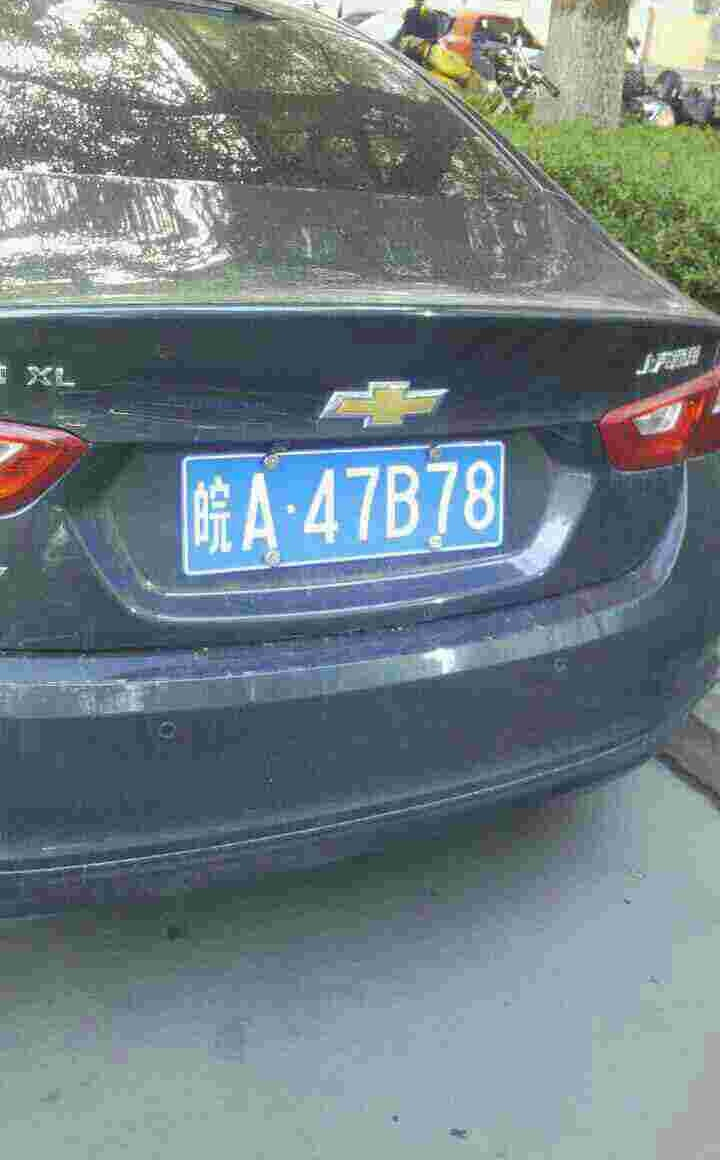license_plate: (188, 439, 505, 568)
